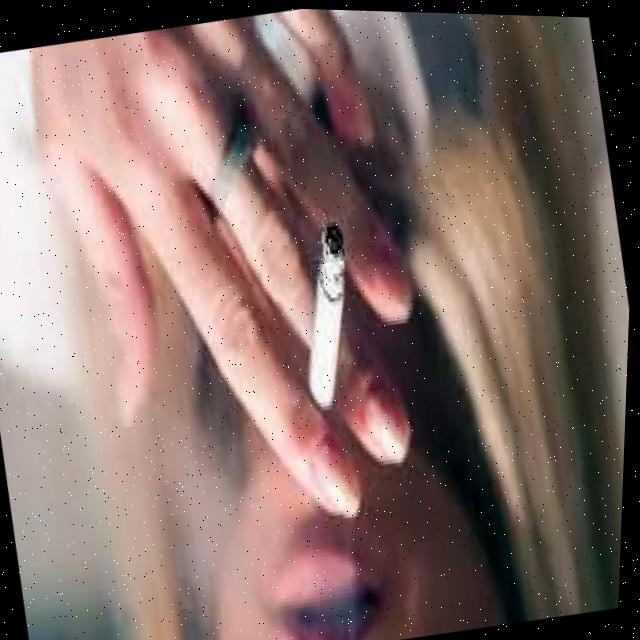cigarette: (306, 220, 347, 408)
